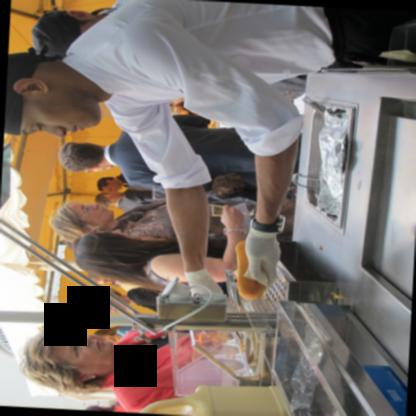handbag: (205, 171, 246, 199)
